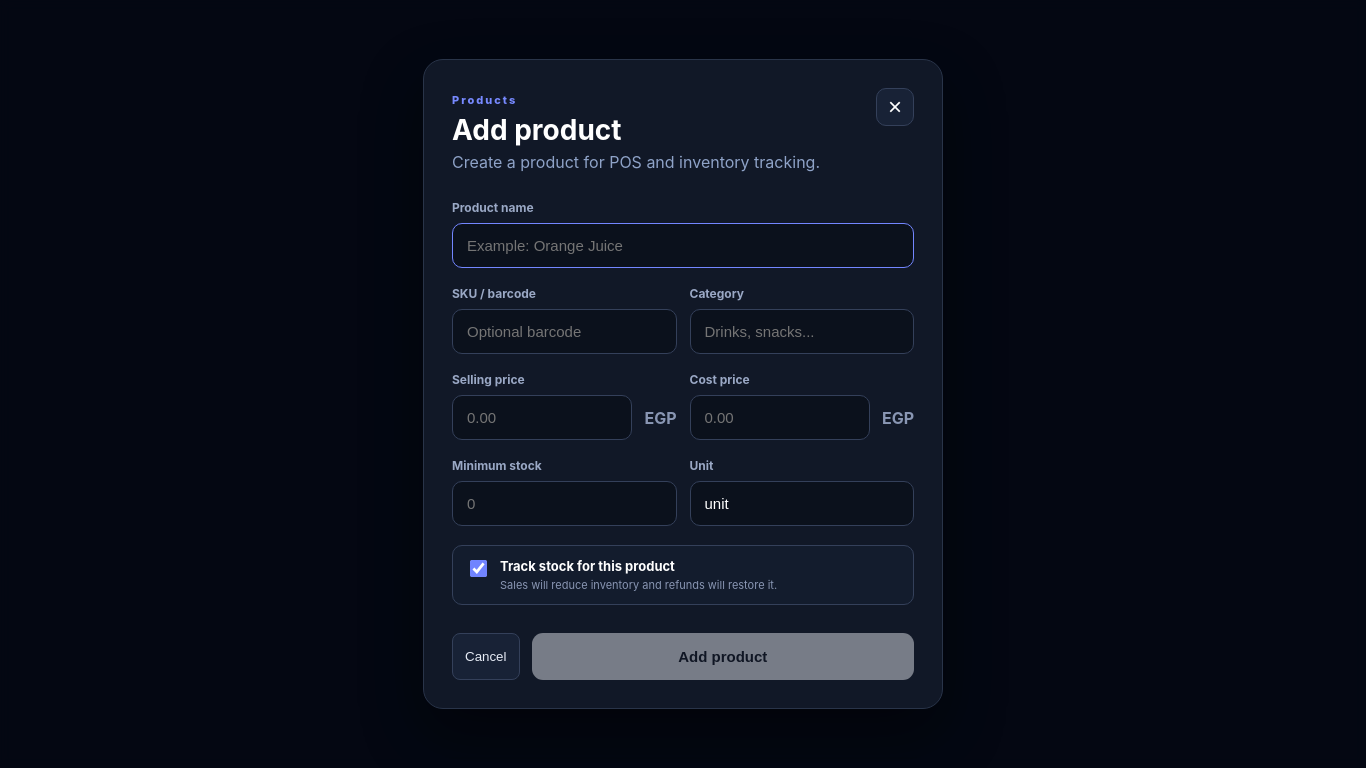
it: ProductFormModal › disables save until a name and a positive selling price are entered
expect the button "Add product" is disabled: met, box [532,633,914,680]
In the field labelled "Product name": (683, 246) [452,223,914,268], type "Iced Tea"
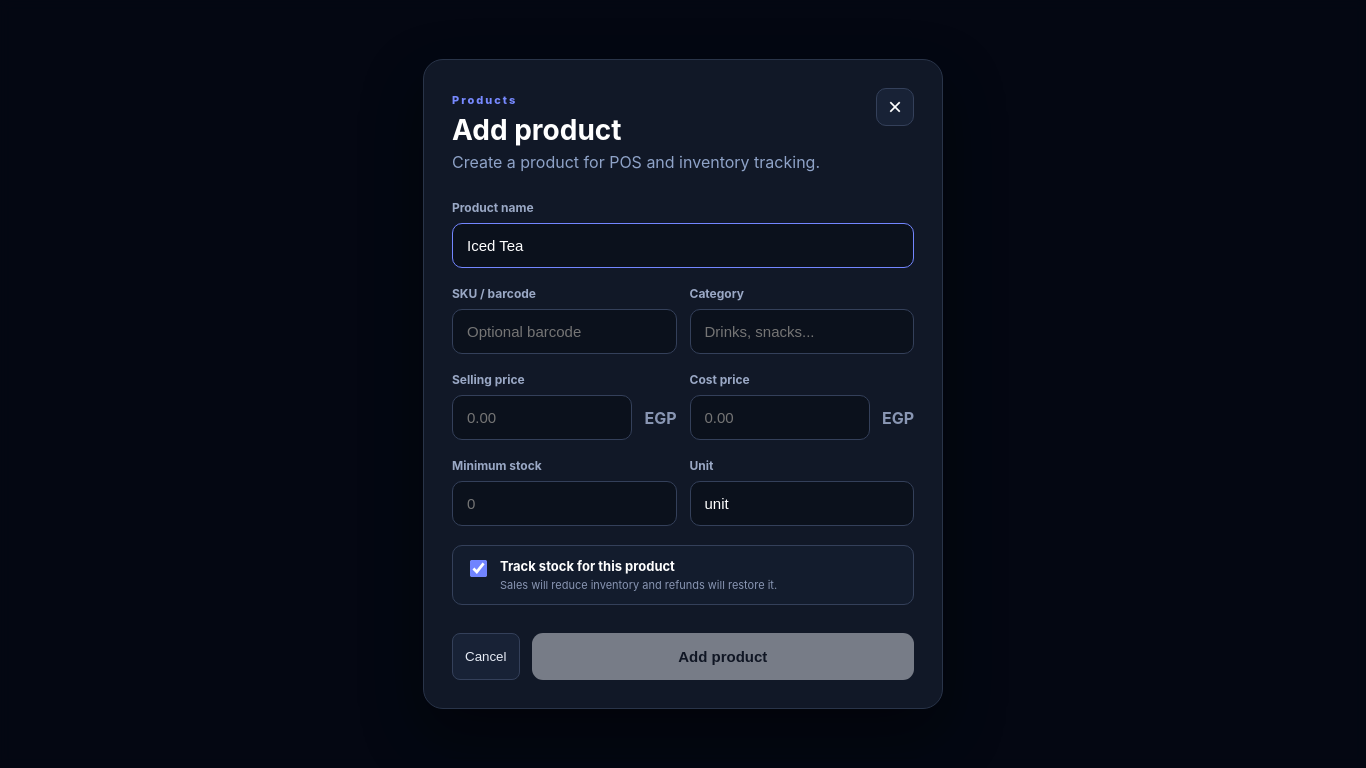
expect the button "Add product" is disabled: met, box [532,633,914,680]
In the number field labelled "Selling price": (542, 418) [452,395,632,440], type "15"
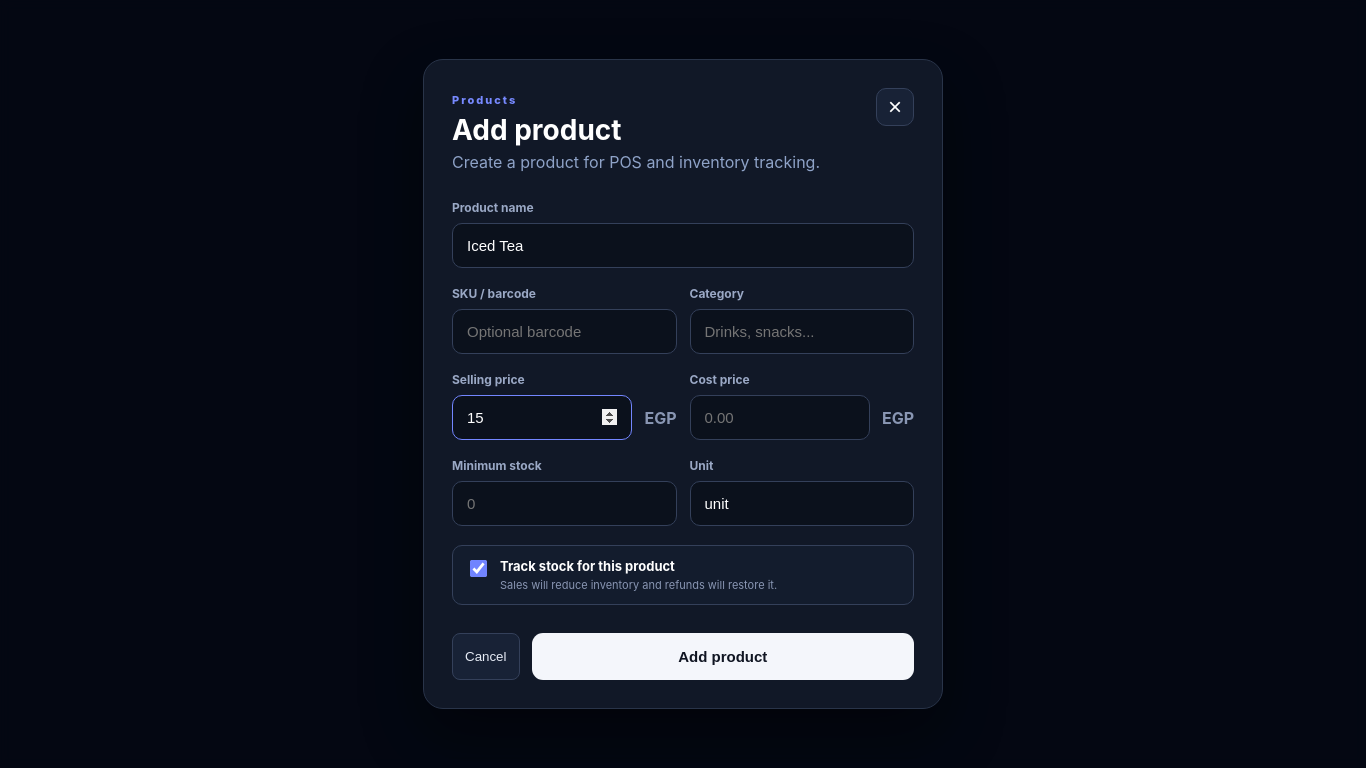
expect the button "Add product" is enabled: met, box [532,633,914,680]
